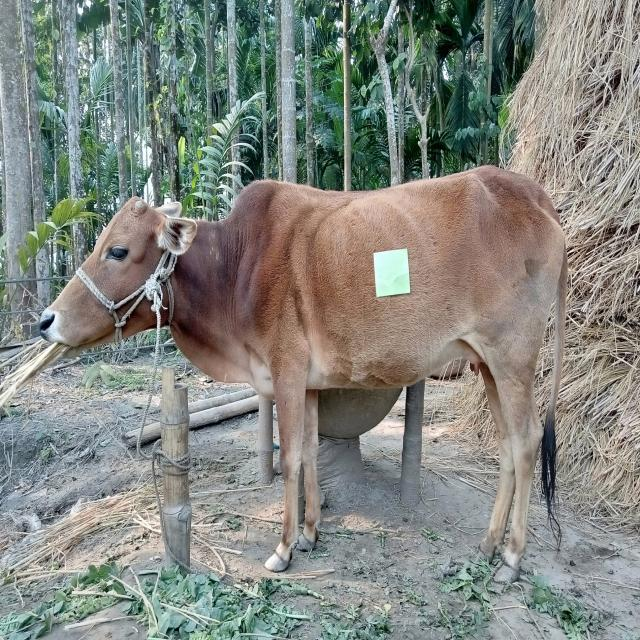badan_sapi: (265, 182, 537, 395)
sapi: (34, 163, 582, 588)
